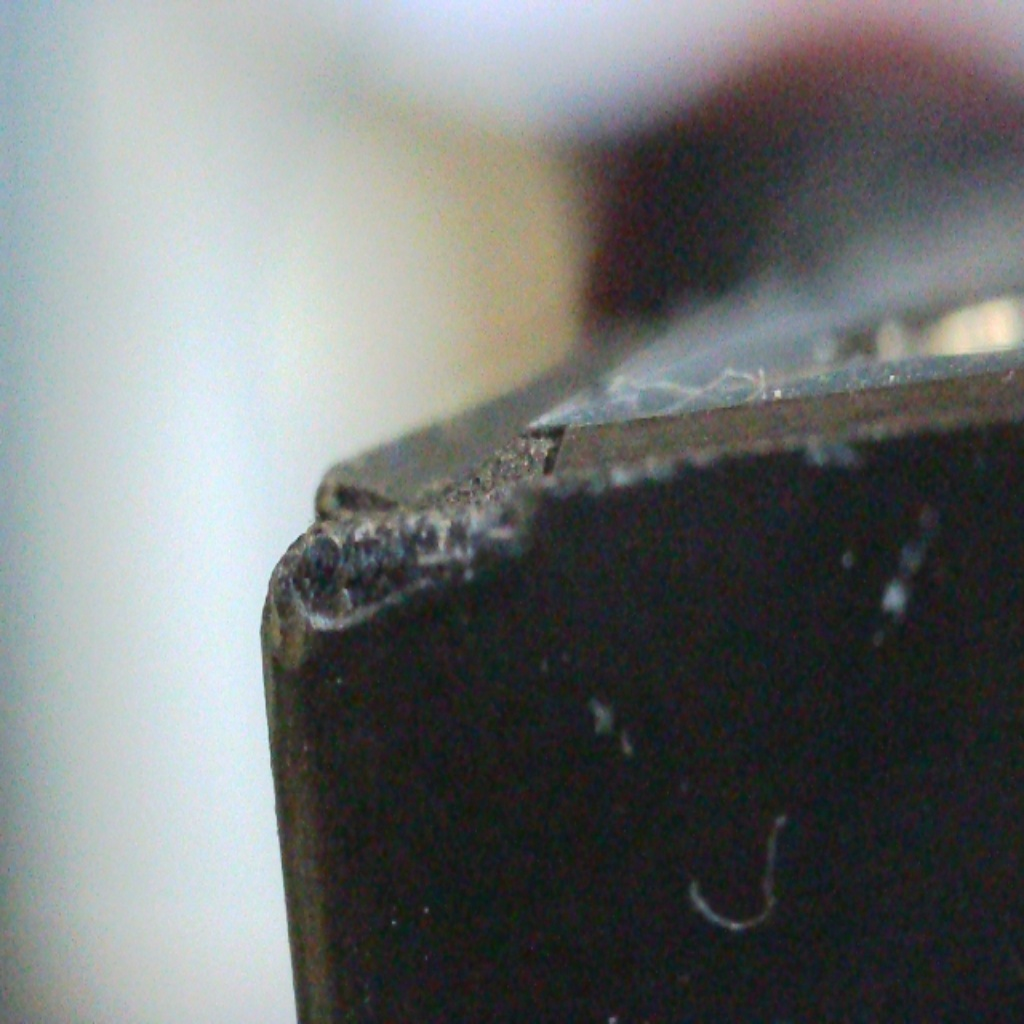flank_wear: (279, 507, 521, 672)
